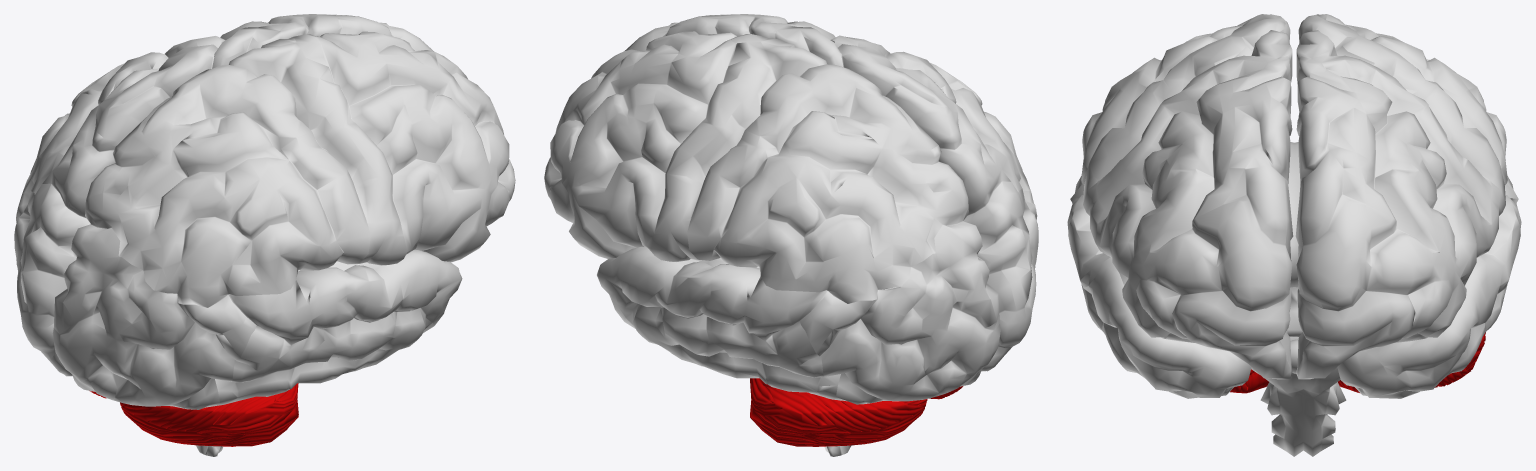
File: Brain.dae
3 views of the same model, side by side, from view 1: azimuth 30°, elevation 25°; view 2: azimuth 150°, elevation 25°; view 3: azimuth 270°, elevation 25° (orthographic). The views are drawn at different scales.
Parts seen in each view (by area): view 1: pariet (×2), frontal (×2), occipit (×2), temp, cereb; view 2: pariet (×2), frontal (×2), occipit (×2), temp, cereb; view 3: frontal (×2), temp (×2), pariet (×2), stem, corpus, cereb.
Part boxes in pixels (x1,y1,x2,y2): pariet (×2): [22, 36, 370, 307]; frontal (×2): [212, 14, 515, 265]; occipit (×2): [14, 183, 256, 409]; temp: [205, 250, 462, 407]; cereb: [90, 383, 298, 446]; pariet (×2): [687, 35, 1030, 303]; frontal (×2): [544, 14, 843, 261]; occipit (×2): [799, 181, 1038, 404]; temp: [597, 246, 846, 401]; cereb: [750, 378, 963, 446]; frontal (×2): [1083, 30, 1505, 379]; temp (×2): [1067, 176, 1521, 398]; pariet (×2): [1081, 14, 1507, 203]; stem: [1251, 287, 1346, 456]; corpus: [1288, 142, 1300, 287]; cereb: [1230, 332, 1485, 393].
Bounding box in the file's own units: 6.42 × 5.28 × 5.62.
